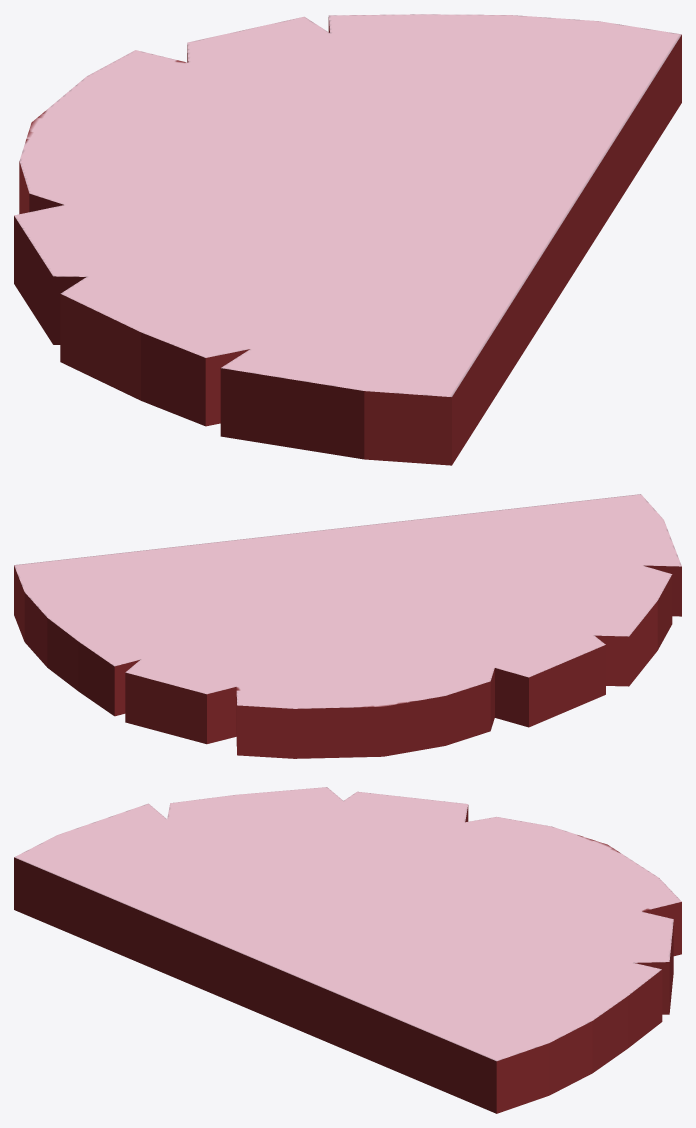
Rendered from ham.glb.
3 views of the same model, one above another, from view 1: azimuth 30°, elevation 25°; view 2: azimuth 150°, elevation 25°; view 3: azimuth 270°, elevation 25° (orthographic). The views are drawn at different scales.
Parts seen in each view (by area): view 1: Cylinder; view 2: Cylinder; view 3: Cylinder.
Boxes of the visible parts, bbox=[...] form: Cylinder: bbox=[14, 14, 681, 465]; Cylinder: bbox=[14, 494, 681, 758]; Cylinder: bbox=[14, 787, 681, 1113].
Size of the model in its own units: 0.5595 by 0.05 by 0.5758.
Materials: 1 (1 with a texture image).
